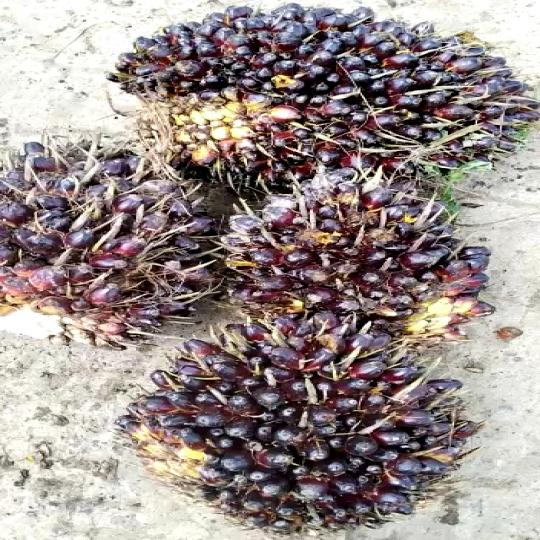kurang masak: (99, 6, 540, 213), (115, 300, 486, 537), (209, 164, 504, 356), (0, 130, 221, 344)
